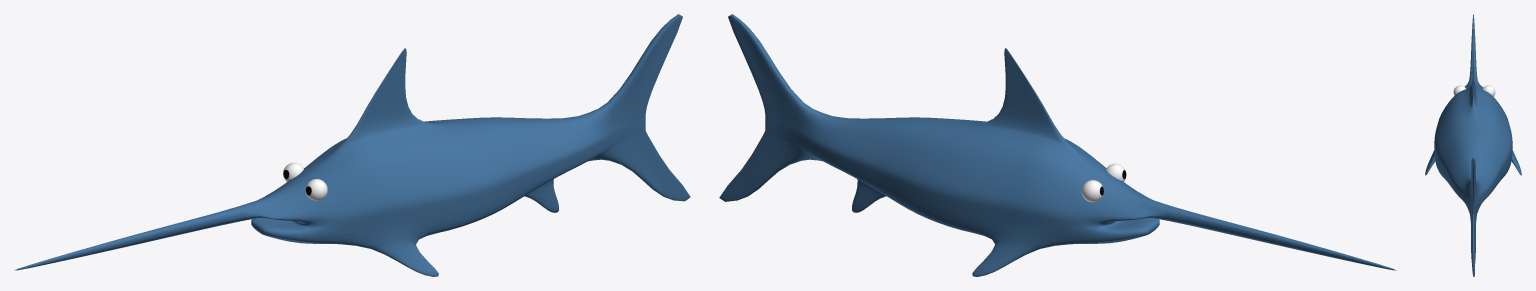
The picture shows the model from 3 angles, left to right: view 1: azimuth 30°, elevation 25°; view 2: azimuth 150°, elevation 25°; view 3: azimuth 270°, elevation 25°; orthographic projection. The views are drawn at different scales.
Visible parts, largest first — view 1: swordie_non_sym_SkelMesh.004; view 2: swordie_non_sym_SkelMesh.004; view 3: swordie_non_sym_SkelMesh.004.
Boxes of the visible parts, x1,y1,x2,y2 form: swordie_non_sym_SkelMesh.004: (14,14,690,276); swordie_non_sym_SkelMesh.004: (719,14,1396,276); swordie_non_sym_SkelMesh.004: (1425,14,1521,276).
Bounding box in the file's own units: 345 × 108 × 68.52.
Materials: 3 (2 with a texture image).
